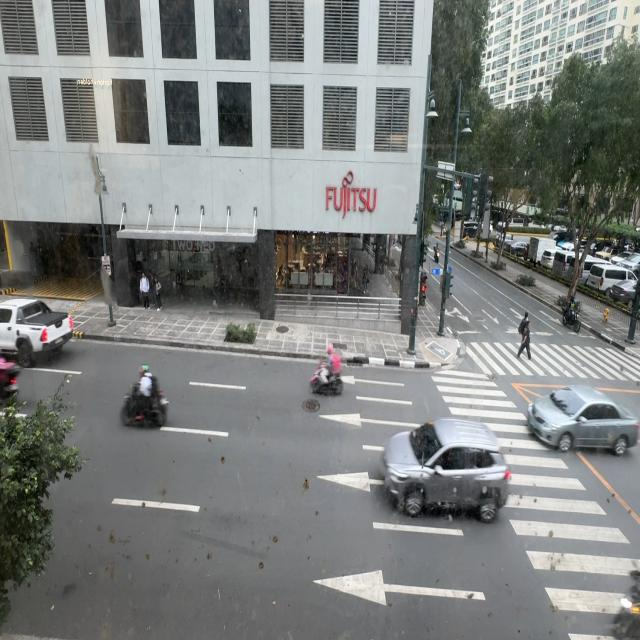crossing: (516, 310, 530, 357)
pedestrain: (140, 270, 150, 308), (155, 277, 163, 312)
